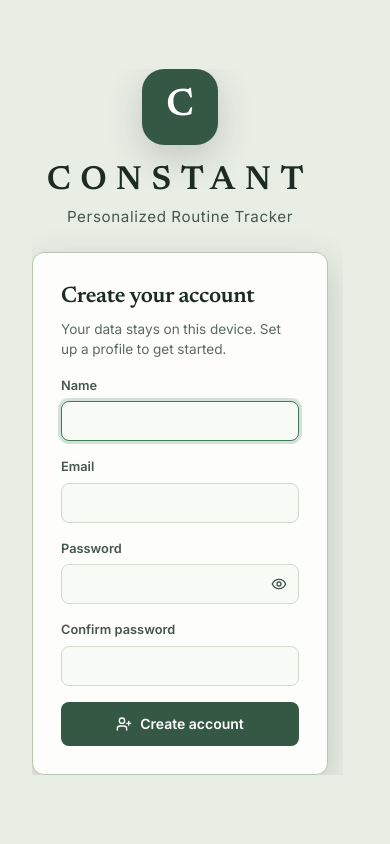
Scenario: login portal › create mode validates then creates the account
Later steps or results of the test are not shown.
Expected: the text "CONSTANT" is shown, [47,163,313,200]
Expected: the text "Personalized Routine Tracker" is shown, [67,206,293,226]
Click the button "Create account": (180, 724) [61,702,299,746]
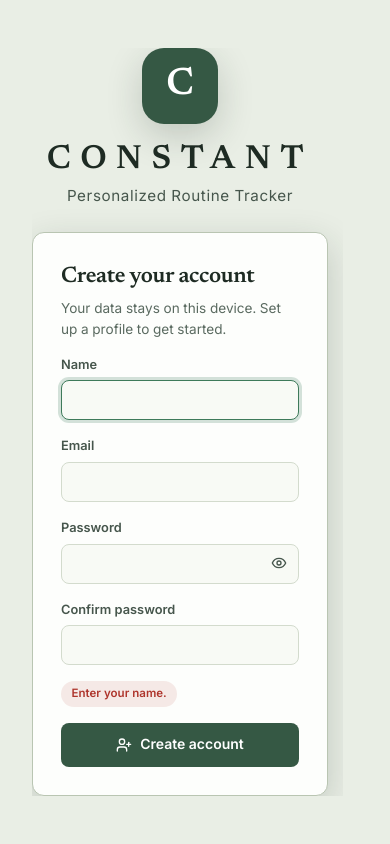
Expected: the message "Enter your name." is shown, [61,681,177,707]
In the field labelled "Name": (180, 400) [61,380,299,420], type "Rithish"
In the field labelled "Email": (180, 482) [61,462,299,502], type "r@example.com"
In the password field labelled "Password": (180, 564) [61,544,299,584], type "short"
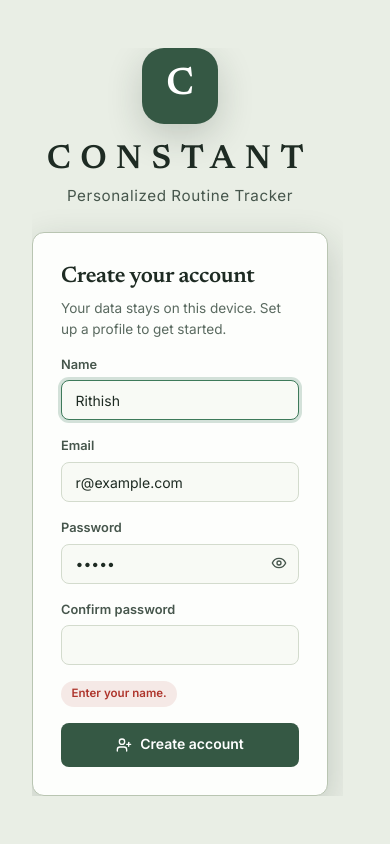
Click the button "Create account": (180, 745) [61,723,299,767]
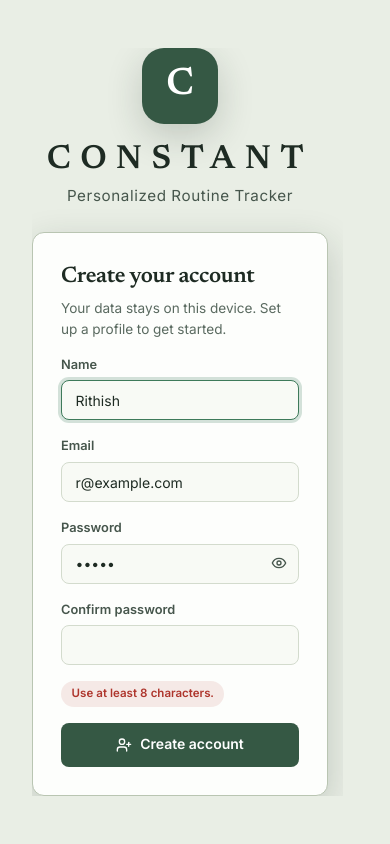
Expected: the message shows "at least 8", [72,686,214,700]
In the password field labelled "Password": (180, 564) [61,544,299,584], type "correct-horse"
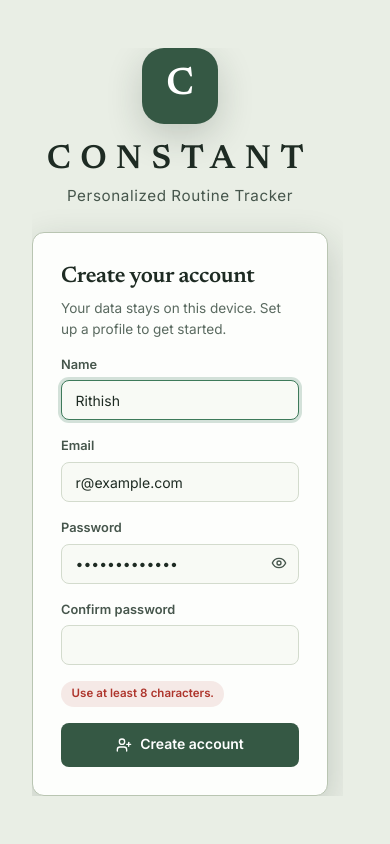
In the password field labelled "Confirm password": (180, 645) [61,625,299,665], type "different"
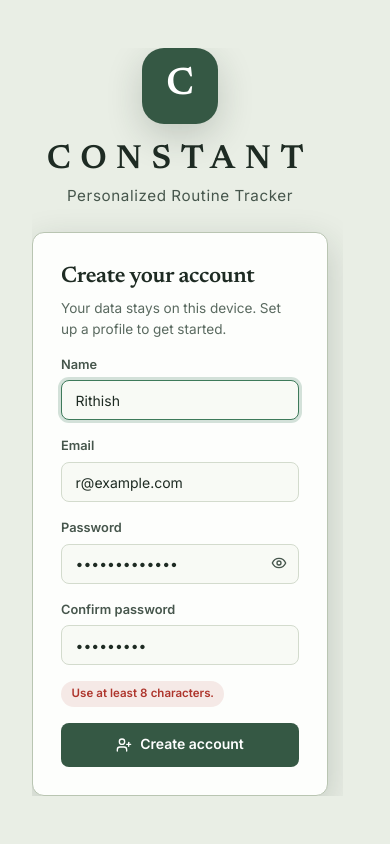
Click the button "Create account": (180, 745) [61,723,299,767]
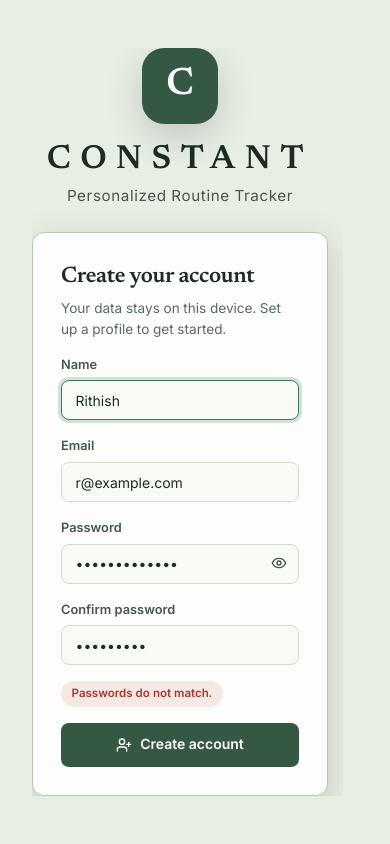
Expected: the message shows "do not match", [72,686,212,700]
